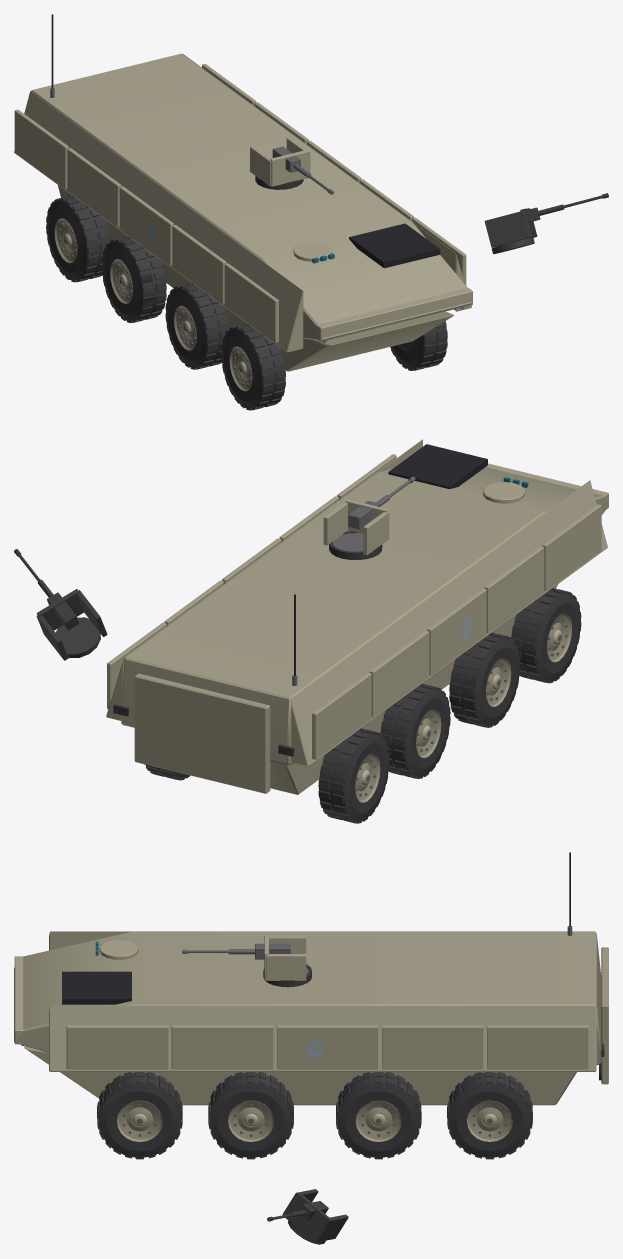
File: apc__k808_apc.glb
3 renders of one model, top to bottom at view 1: azimuth 30°, elevation 25°; view 2: azimuth 150°, elevation 25°; view 3: azimuth 270°, elevation 25°, orthographic. The views are drawn at different scales.
Parts seen in each view (by area): view 1: Hull_Mesh, Wheel_L3_Mesh, Wheel_L1_Mesh, Wheel_L2_Mesh, Wheel_L0_Mesh, Wreck, Wheel_R3_Mesh, Turret_Mesh, Gun_Mesh; view 2: Hull_Mesh, Wheel_L0_Mesh, Wheel_L2_Mesh, Wheel_L1_Mesh, Wheel_L3_Mesh, Wreck, Turret_Mesh, Gun_Mesh; view 3: Hull_Mesh, Wheel_R2_Mesh, Wheel_R0_Mesh, Wheel_R3_Mesh, Wheel_R1_Mesh, Wreck, Turret_Mesh, Gun_Mesh.
Boxes of the visible parts, bbox=[...] form: Hull_Mesh: bbox=[14, 14, 472, 371]; Wheel_L3_Mesh: bbox=[221, 323, 285, 410]; Wheel_L1_Mesh: bbox=[101, 236, 166, 322]; Wheel_L2_Mesh: bbox=[165, 282, 229, 369]; Wheel_L0_Mesh: bbox=[46, 195, 109, 282]; Wreck: bbox=[79, 176, 608, 403]; Wheel_R3_Mesh: bbox=[390, 321, 447, 370]; Turret_Mesh: bbox=[250, 137, 310, 186]; Gun_Mesh: bbox=[272, 146, 333, 194]; Hull_Mesh: bbox=[106, 439, 608, 794]; Wheel_L0_Mesh: bbox=[318, 728, 389, 823]; Wheel_L2_Mesh: bbox=[449, 632, 520, 727]; Wheel_L1_Mesh: bbox=[380, 683, 450, 778]; Wheel_L3_Mesh: bbox=[511, 588, 581, 683]; Wreck: bbox=[14, 531, 559, 821]; Turret_Mesh: bbox=[323, 499, 389, 555]; Gun_Mesh: bbox=[348, 476, 415, 529]; Hull_Mesh: bbox=[14, 852, 608, 1105]; Wheel_R2_Mesh: bbox=[208, 1072, 293, 1158]; Wheel_R0_Mesh: bbox=[447, 1072, 532, 1158]; Wheel_R3_Mesh: bbox=[97, 1072, 182, 1158]; Wheel_R1_Mesh: bbox=[336, 1072, 421, 1158]; Wreck: bbox=[125, 964, 519, 1244]; Turret_Mesh: bbox=[264, 935, 308, 980]; Gun_Mesh: bbox=[182, 943, 290, 959].
Size of what is drawn, in the model's own units: 6.46 by 3.25 by 7.65.
